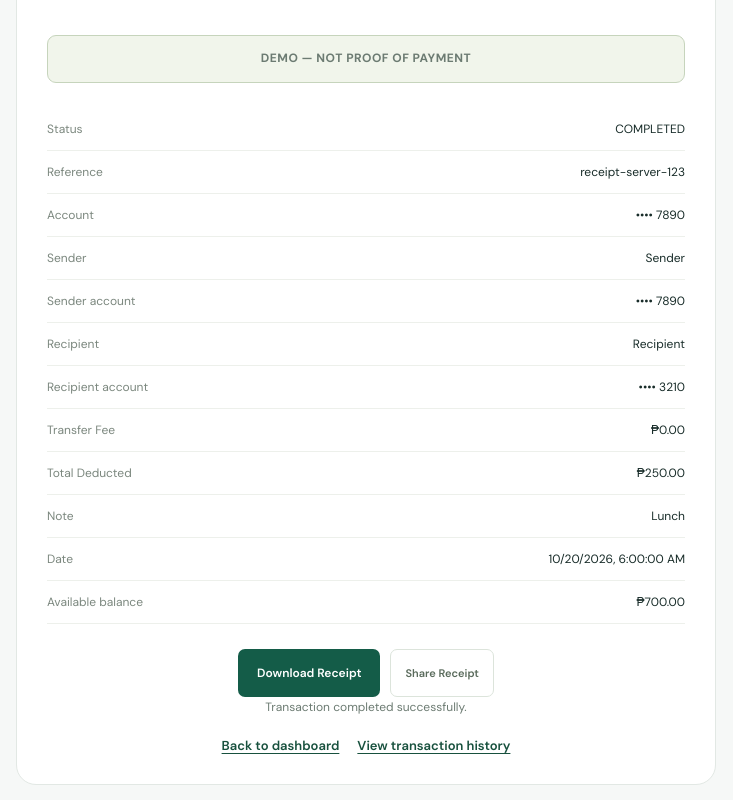
Test: download errors are shown without losing the completed receipt
(page scrolled)
Click the button "Download Receipt" at (309, 673), box [238, 649, 380, 697]
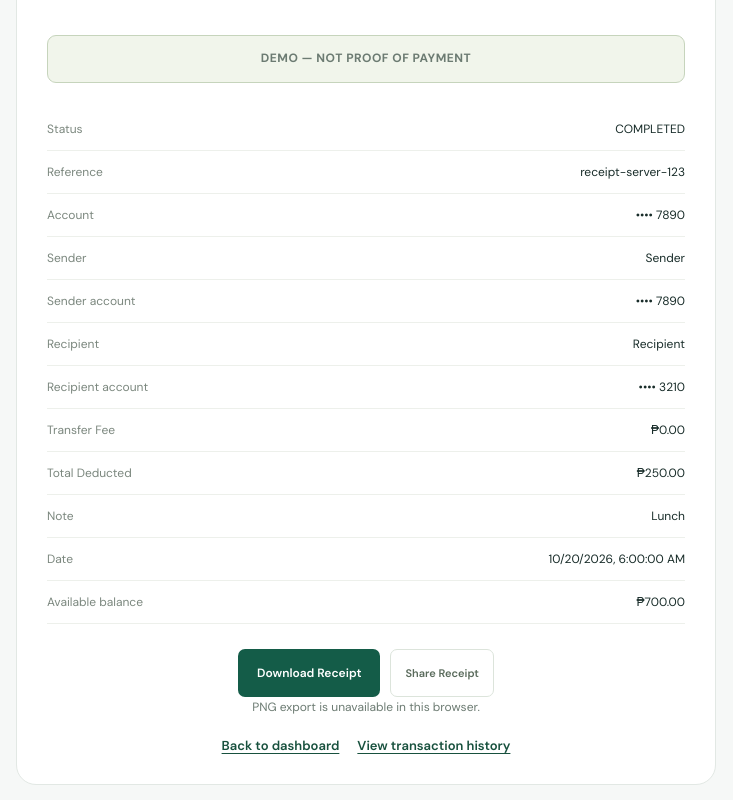
Now the text "PNG export is unavailable in this browser." is shown, box [252, 699, 480, 715]
